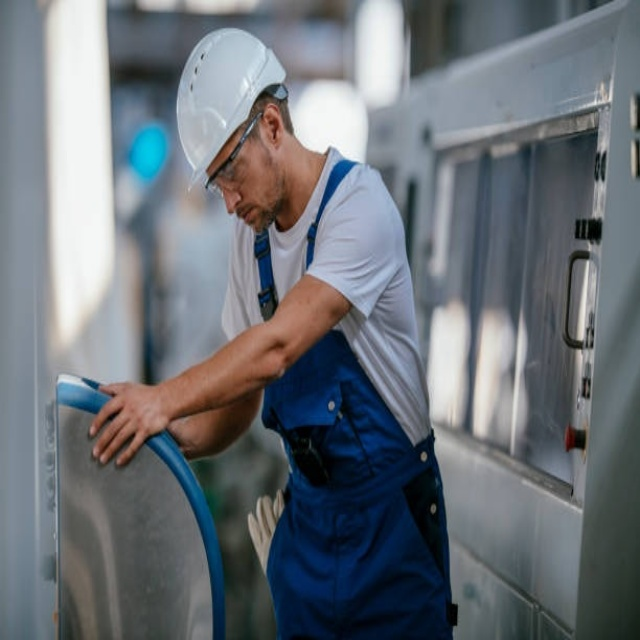Gafas: (204, 104, 269, 199)
Sin_mascara: (232, 204, 265, 238)
